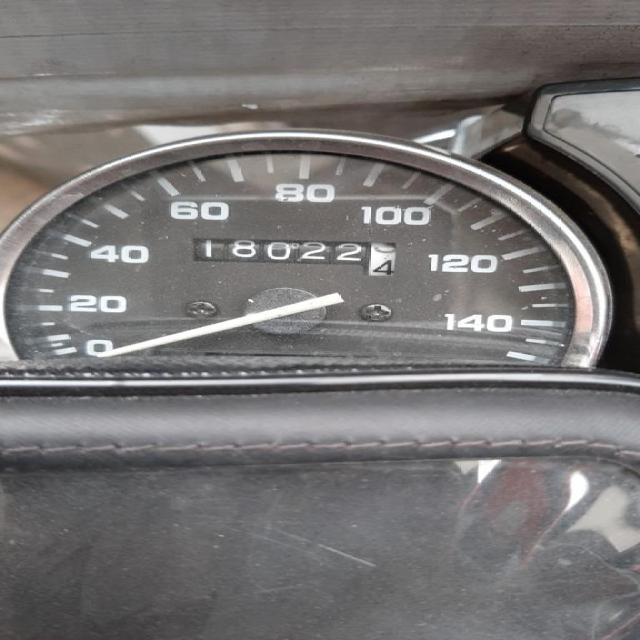odometer: (189, 236, 398, 277)
